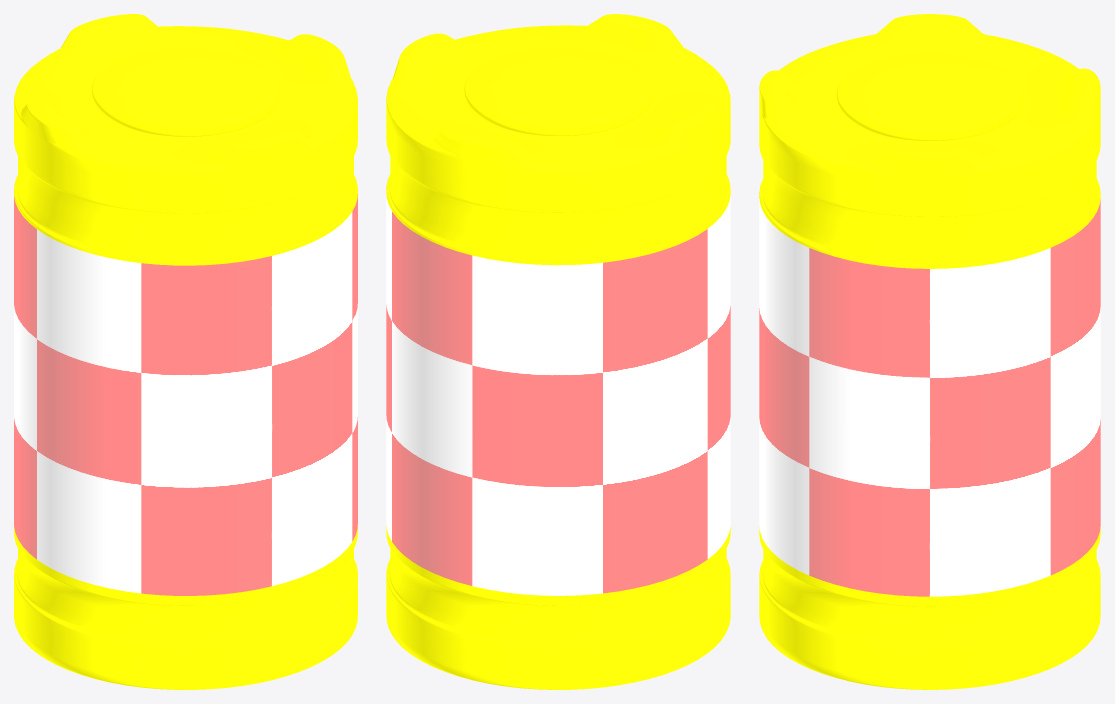
Rendered from Collision_Resistant_Barrel.glb.
The picture shows the model from 3 angles, left to right: view 1: azimuth 30°, elevation 25°; view 2: azimuth 150°, elevation 25°; view 3: azimuth 270°, elevation 25°; orthographic projection.
Visible parts, largest first — view 1: Collision_Resistant_Barrel; view 2: Collision_Resistant_Barrel; view 3: Collision_Resistant_Barrel.
Boxes of the visible parts, x1,y1,x2,y2 form: Collision_Resistant_Barrel: (14,14,357,689); Collision_Resistant_Barrel: (386,14,730,689); Collision_Resistant_Barrel: (759,14,1100,689).
Size of the model in its own units: 0.58 by 1 by 0.58.
2 materials, 1 textured.
